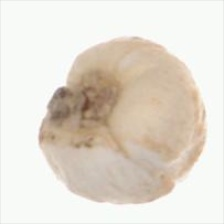L4: (39, 36, 208, 205)
